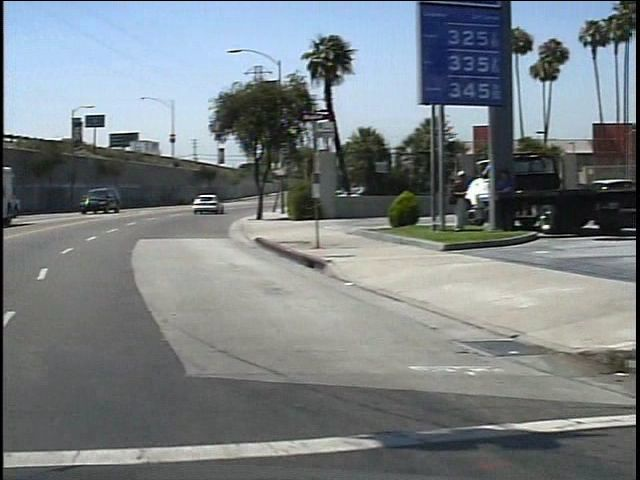person: (437, 164, 464, 233)
